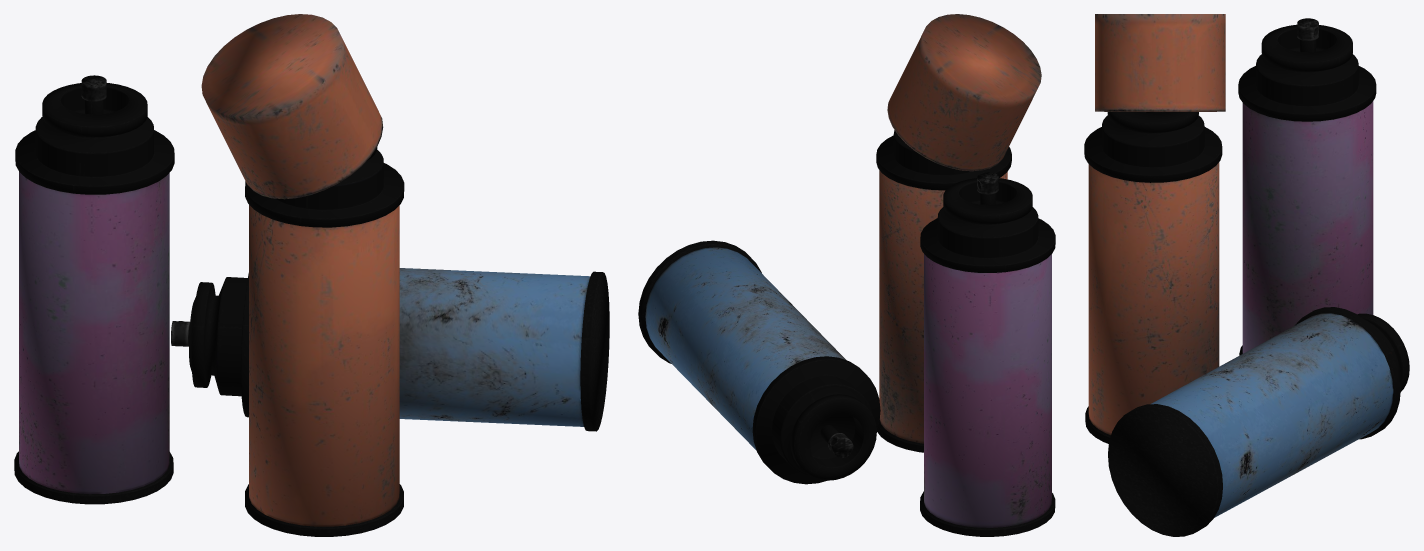
Rendered from SprayCan.fbx.
3 views of the same model, side by side, from view 1: azimuth 30°, elevation 25°; view 2: azimuth 150°, elevation 25°; view 3: azimuth 270°, elevation 25° (orthographic). The views are drawn at different scales.
Visible parts, largest first — view 1: Object_2, Object_2.001; view 2: Object_2, Object_2.001; view 3: Object_2, Object_2.001.
Boxes of the visible parts, x1,y1,x2,y2 form: Object_2: (14,14,404,536); Object_2.001: (171,268,609,431); Object_2: (876,14,1055,536); Object_2.001: (638,240,880,484); Object_2: (1084,14,1376,443); Object_2.001: (1108,307,1409,536).
Size of the model in its own units: 351 by 300 by 215.
